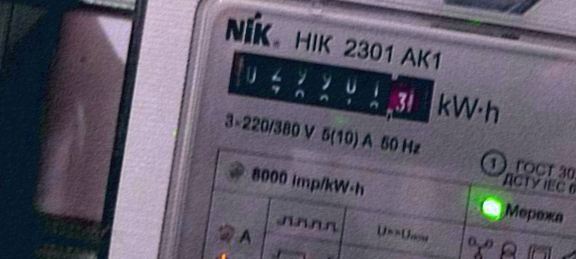0: (342, 71, 361, 98), (242, 62, 260, 86)
1: (369, 75, 384, 100)
2: (268, 61, 286, 85)
3: (392, 90, 410, 115)
9: (318, 69, 334, 94), (294, 65, 309, 87)
screen: (218, 42, 445, 136)
